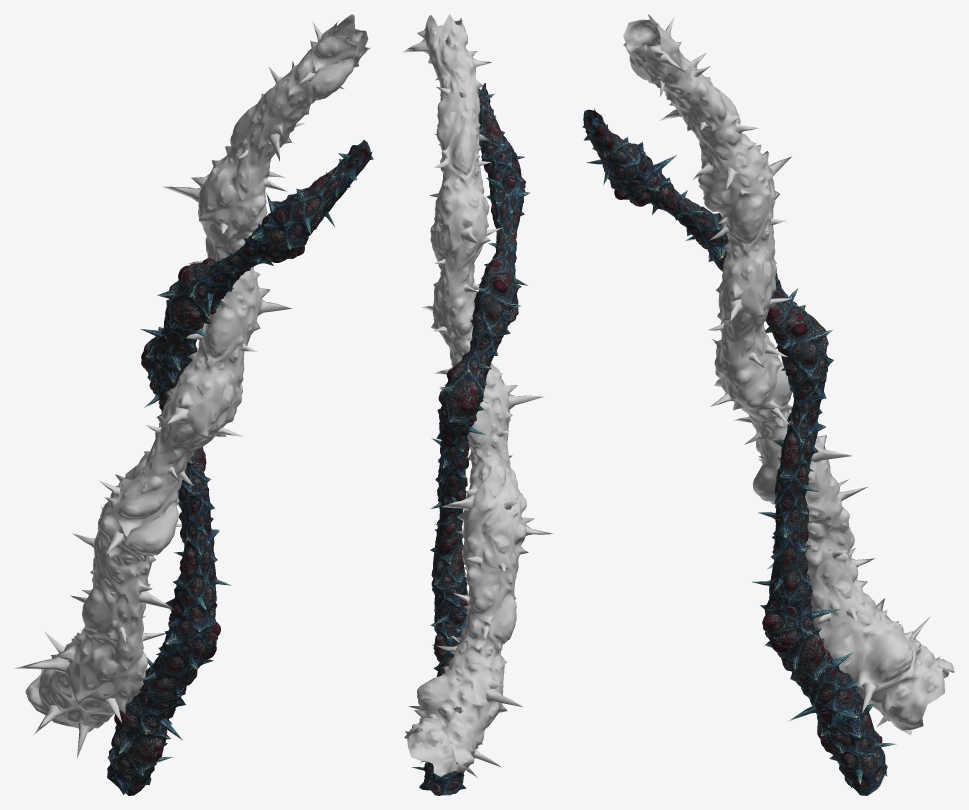
The model's file is backup.fbx.
3 renders of one model, left to right at view 1: azimuth 30°, elevation 25°; view 2: azimuth 150°, elevation 25°; view 3: azimuth 270°, elevation 25°, orthographic. The views are drawn at different scales.
Visible parts, largest first — view 1: LODGroup_1_MainMesh_1_SubMesh_2, LODGroup_1_MainMesh_1_SubMesh_1; view 2: LODGroup_1_MainMesh_1_SubMesh_2, LODGroup_1_MainMesh_1_SubMesh_1; view 3: LODGroup_1_MainMesh_1_SubMesh_2, LODGroup_1_MainMesh_1_SubMesh_1.
Boxes of the visible parts, x1=… form: LODGroup_1_MainMesh_1_SubMesh_2: x1=14, y1=14, x2=370, y2=758; LODGroup_1_MainMesh_1_SubMesh_1: x1=107, y1=140, x2=373, y2=795; LODGroup_1_MainMesh_1_SubMesh_2: x1=403, y1=14, x2=552, y2=777; LODGroup_1_MainMesh_1_SubMesh_1: x1=411, y1=83, x2=530, y2=795; LODGroup_1_MainMesh_1_SubMesh_2: x1=623, y1=14, x2=954, y2=735; LODGroup_1_MainMesh_1_SubMesh_1: x1=582, y1=108, x2=896, y2=795.
Size of the model in its own units: 460 by 1491 by 611.
